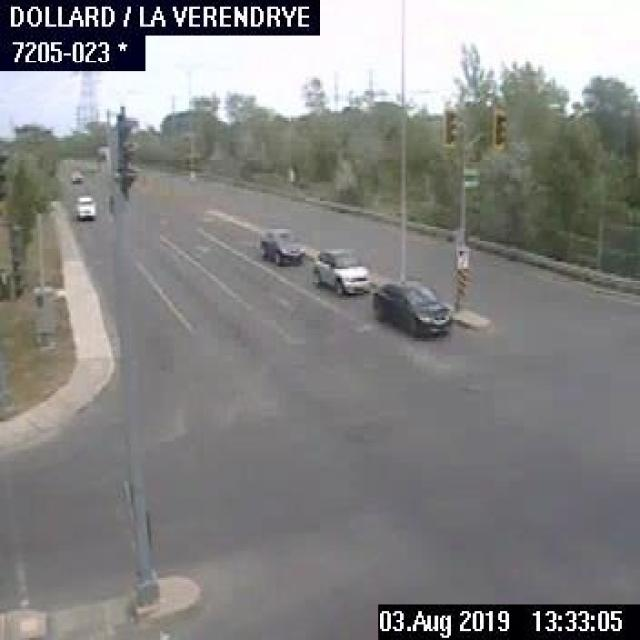vehicle: (371, 276, 451, 338), (312, 246, 374, 294), (261, 228, 302, 264), (74, 193, 95, 220), (70, 169, 83, 183)
